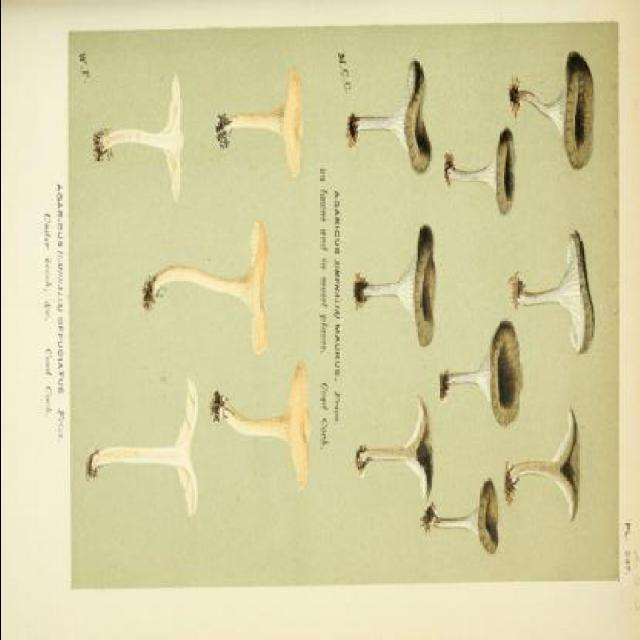Mushroom: (141, 217, 273, 354), (89, 376, 205, 513), (212, 358, 316, 492), (356, 216, 441, 352), (346, 52, 436, 176), (518, 222, 600, 358), (210, 68, 308, 180), (99, 72, 187, 192), (508, 51, 594, 172), (504, 404, 586, 514), (442, 313, 522, 424), (360, 396, 432, 504), (440, 122, 522, 213), (430, 481, 502, 557)
